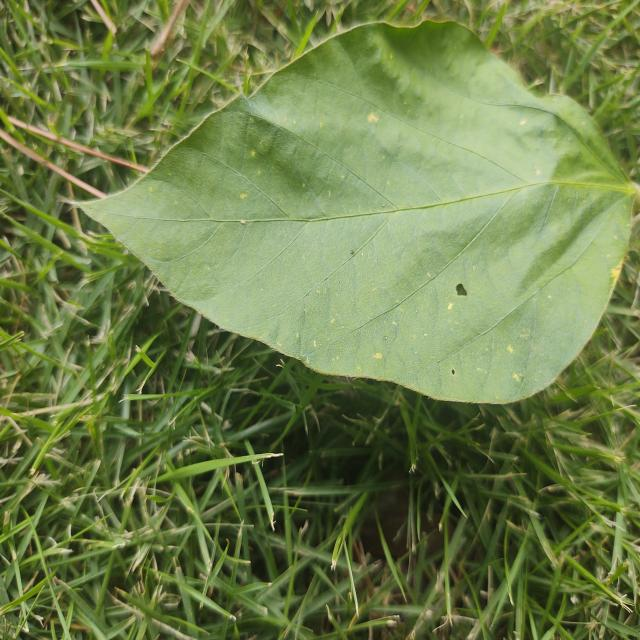Soybean: (79, 22, 640, 407)
downey_mildew: (439, 276, 532, 383), (237, 102, 316, 211), (366, 285, 424, 364), (353, 88, 416, 159), (439, 274, 497, 330), (346, 234, 379, 265), (273, 351, 317, 370), (610, 261, 625, 285), (367, 112, 378, 123), (373, 352, 382, 359), (534, 168, 541, 176), (239, 193, 247, 200), (447, 302, 453, 311), (519, 119, 526, 126), (251, 150, 256, 158), (330, 318, 336, 324), (312, 340, 317, 347), (392, 320, 397, 326), (149, 186, 154, 192), (319, 121, 323, 128), (547, 294, 552, 299), (257, 170, 261, 175), (614, 235, 618, 240), (606, 253, 610, 258)
